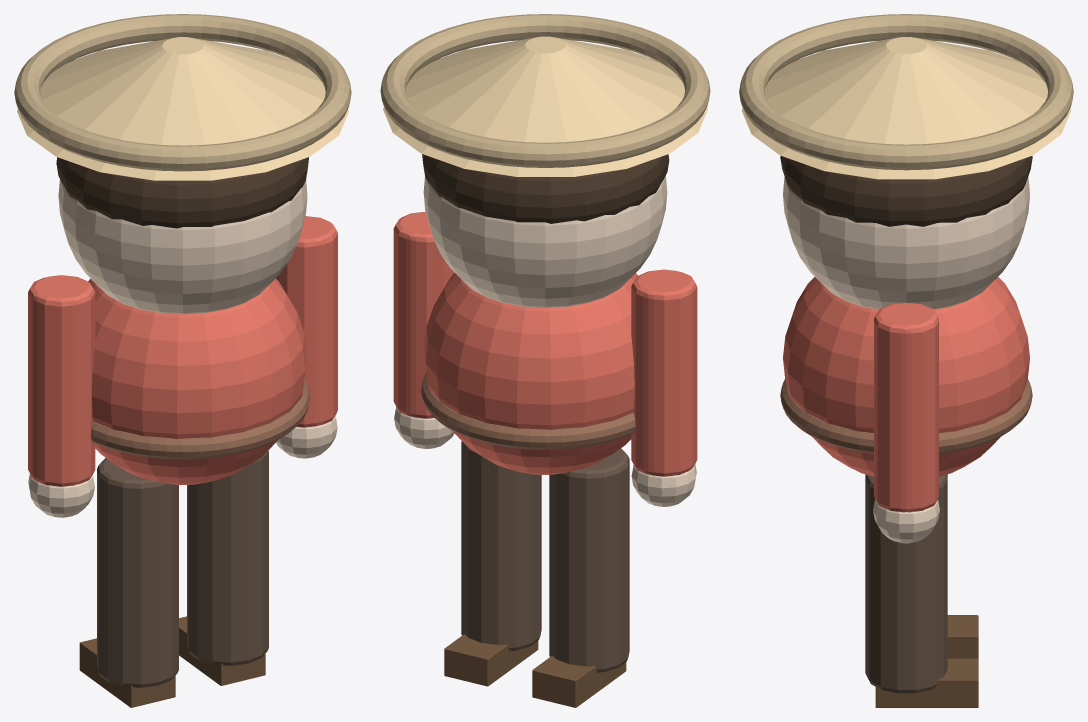
The model's file is chibi_red.glb.
3 views of the same model, side by side, from view 1: azimuth 30°, elevation 25°; view 2: azimuth 150°, elevation 25°; view 3: azimuth 270°, elevation 25° (orthographic). The views are drawn at different scales.
Visible parts, largest first — view 1: chibi_red; view 2: chibi_red; view 3: chibi_red.
Part boxes in pixels (x1,y1,x2,y2): chibi_red: (14,14,351,707); chibi_red: (380,14,710,707); chibi_red: (739,14,1073,707).
Size of the model in its own units: 0.6667 by 1.35 by 0.65.
